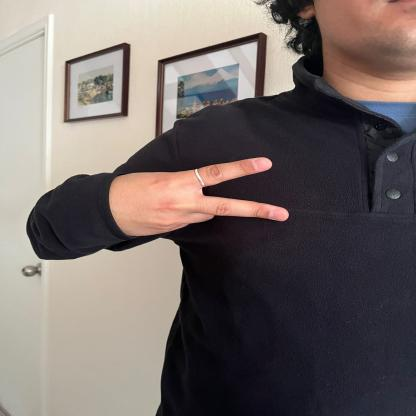H: (106, 156, 293, 239)
